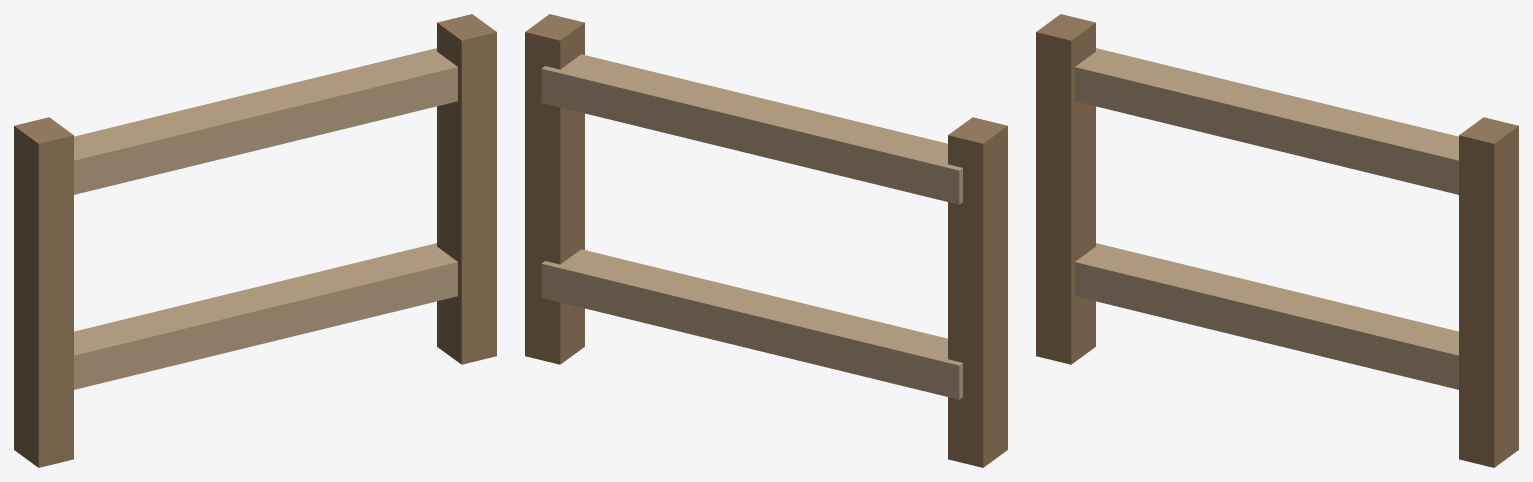
The picture shows the model from 3 angles, left to right: view 1: azimuth 30°, elevation 25°; view 2: azimuth 150°, elevation 25°; view 3: azimuth 330°, elevation 25°; orthographic projection.
Visible parts, largest first — view 1: fence_gate; view 2: fence_gate; view 3: fence_gate.
Part boxes in pixels (box(x1,y1,x2,y2)): fence_gate: box(14, 14, 496, 467); fence_gate: box(525, 14, 1007, 467); fence_gate: box(1036, 14, 1518, 467).
Bounding box in the file's own units: 1.82 × 1.23 × 0.195.
